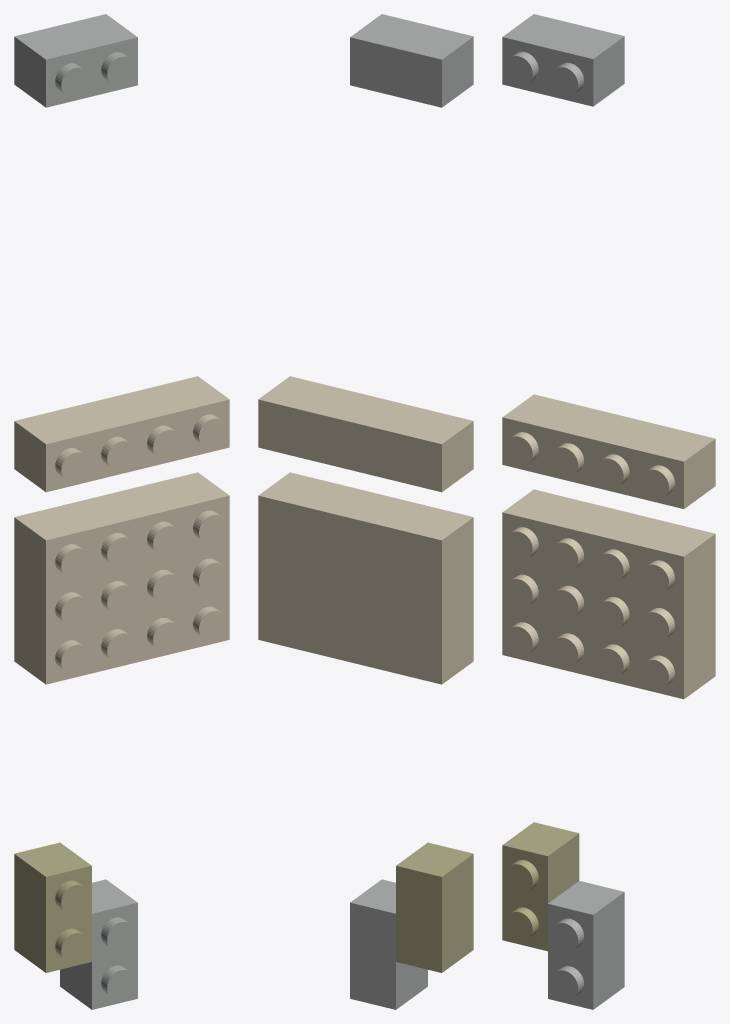
The model's file is current.glb.
3 renders of one model, left to right at view 1: azimuth 30°, elevation 25°; view 2: azimuth 150°, elevation 25°; view 3: azimuth 330°, elevation 25°, orthographic.
Visible parts, largest first — view 1: world; view 2: world; view 3: world.
Boxes of the visible parts, x1,y1,x2,y2 form: world: (14,14,229,1009); world: (258,14,473,1009); world: (502,14,715,1009).
Bounding box in the file's own units: 32 × 160 × 11.4.
